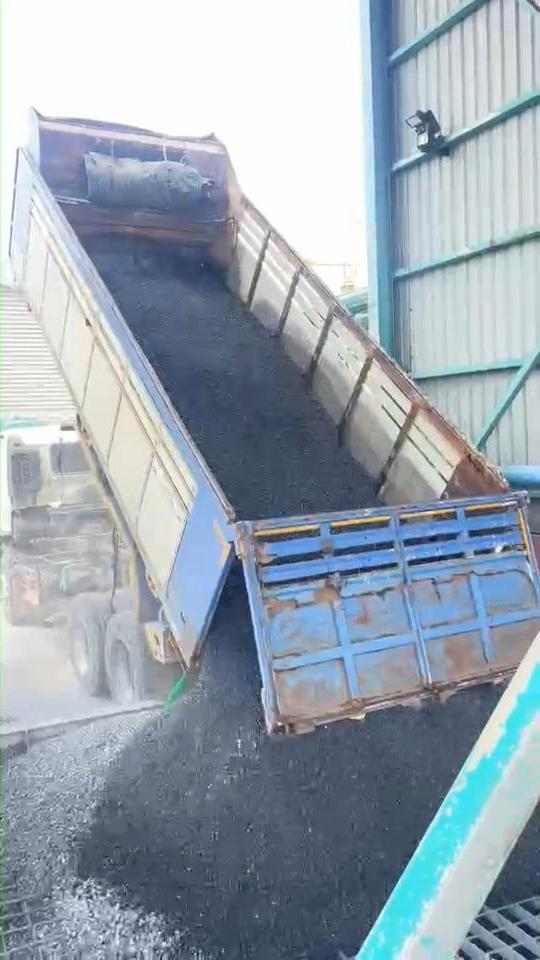gravel: (5, 571, 497, 959), (86, 237, 377, 518), (496, 818, 540, 901)
